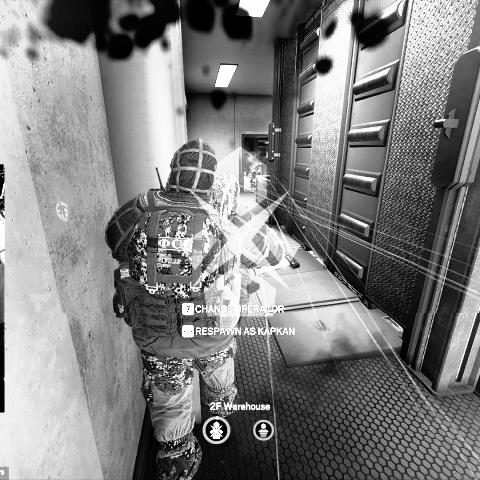Character: (102, 136, 290, 480), (246, 161, 262, 192)
Head: (168, 138, 218, 197)
